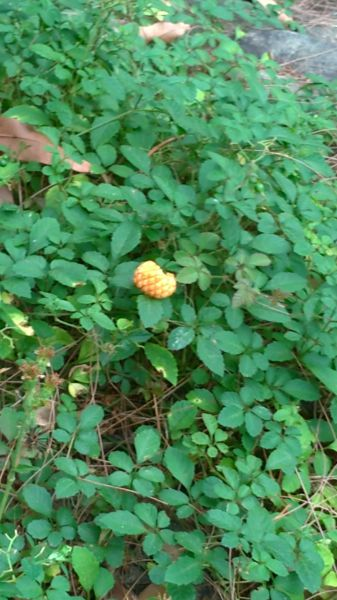eggs: (128, 255, 185, 304)
